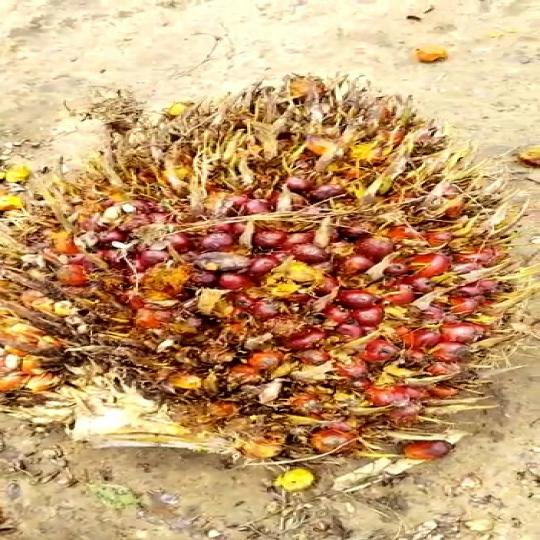masak: (0, 66, 540, 500)
